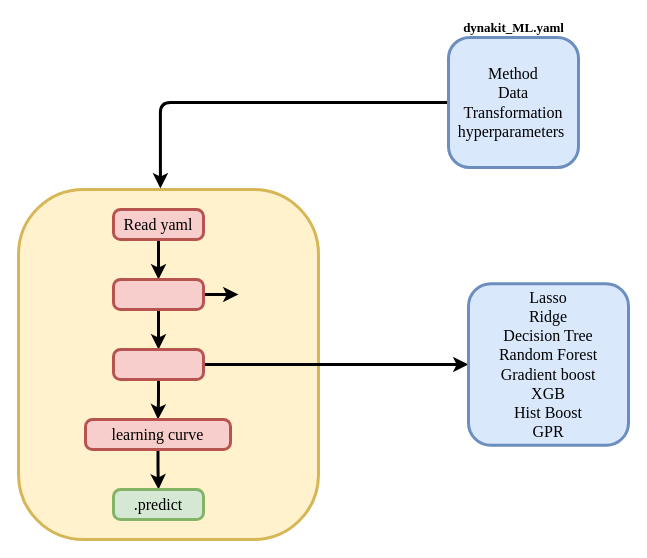
Some shapes in this 647 by 558 pixel diagram are drawn without their labels. The shapes that lost their labels are listed below. From the top down, each one's centre as x and y in pixels, then its label:
At point 158,294: "Read Data".
At point 158,364: "Train model".
